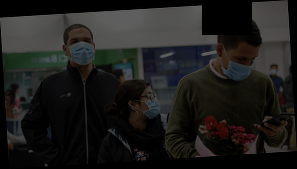with_mask: (222, 52, 260, 85), (66, 35, 96, 67), (134, 90, 161, 121), (270, 65, 278, 77)
